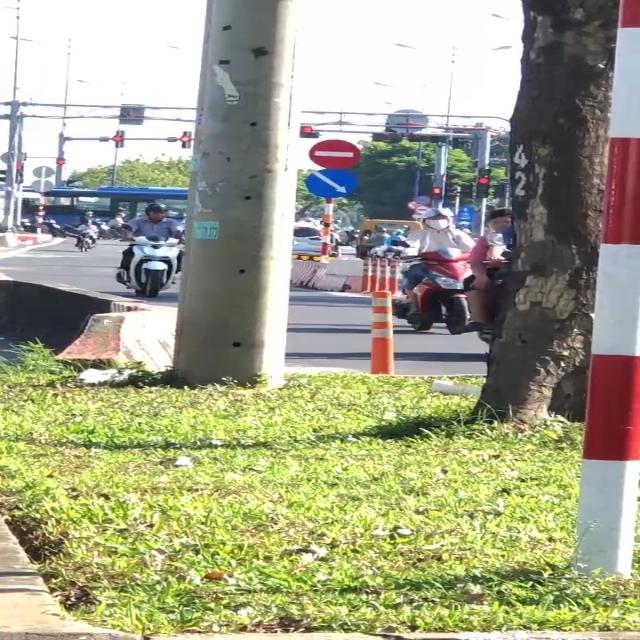Bien bao cam di nguoc chieu: (306, 136, 362, 171)
Bien bao huong phai di vong chuong ngai vat: (303, 167, 366, 201)
